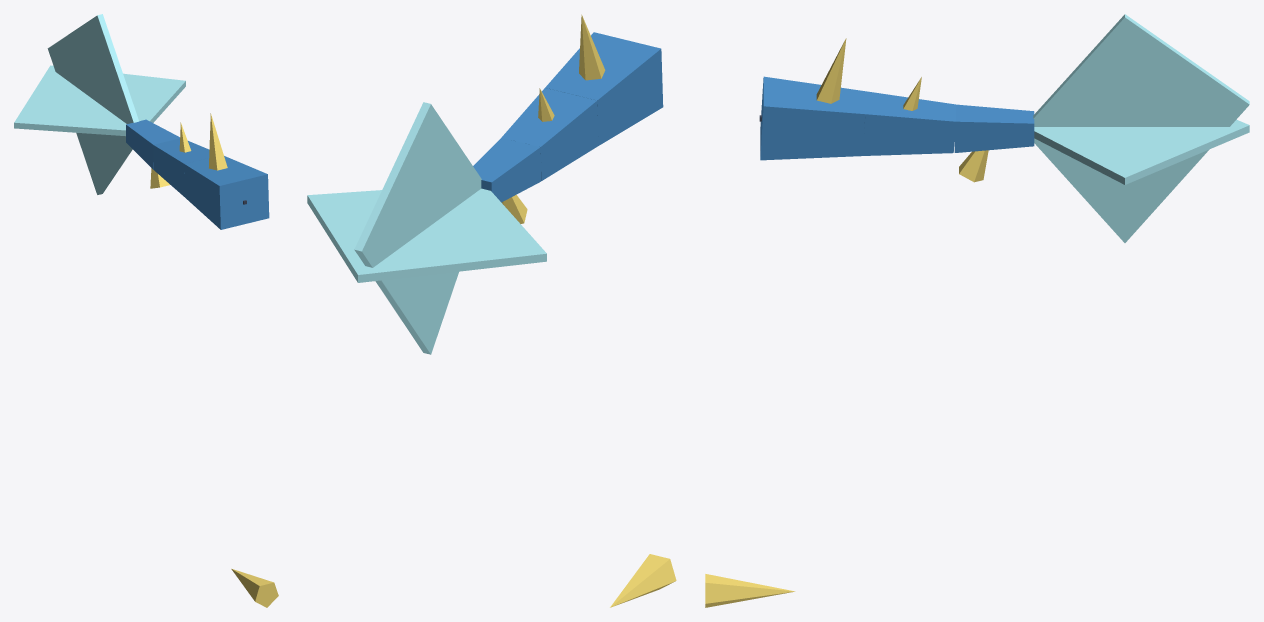
Rendered from DragonTail.fbx.
3 renders of one model, left to right at view 1: azimuth 30°, elevation 25°; view 2: azimuth 150°, elevation 25°; view 3: azimuth 270°, elevation 25°, orthographic. The views are drawn at different scales.
Parts seen in each view (by area): view 1: DragonTail_Fin, DragonTail_Segments, DragonTail_Spikes; view 2: DragonTail_Fin, DragonTail_Segments, DragonTail_Spikes; view 3: DragonTail_Fin, DragonTail_Segments, DragonTail_Spikes.
Boxes of the visible parts, x1,y1,x2,y2 form: DragonTail_Fin: (14, 14, 185, 194); DragonTail_Segments: (126, 119, 269, 229); DragonTail_Spikes: (150, 113, 278, 607); DragonTail_Fin: (307, 102, 546, 354); DragonTail_Segments: (473, 32, 663, 202); DragonTail_Spikes: (501, 14, 676, 607); DragonTail_Fin: (1033, 14, 1249, 242); DragonTail_Segments: (760, 76, 1034, 160); DragonTail_Spikes: (705, 38, 988, 607).
Size of the model in its own units: 220 by 576 by 480.
